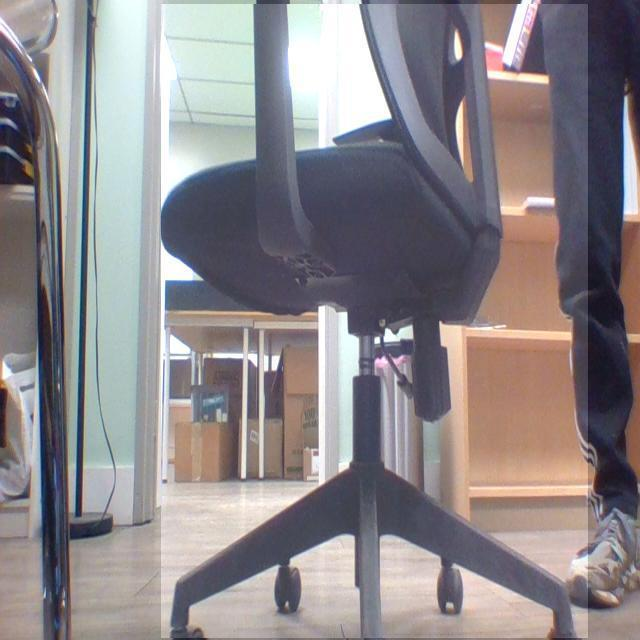chair: (159, 0, 579, 640)
